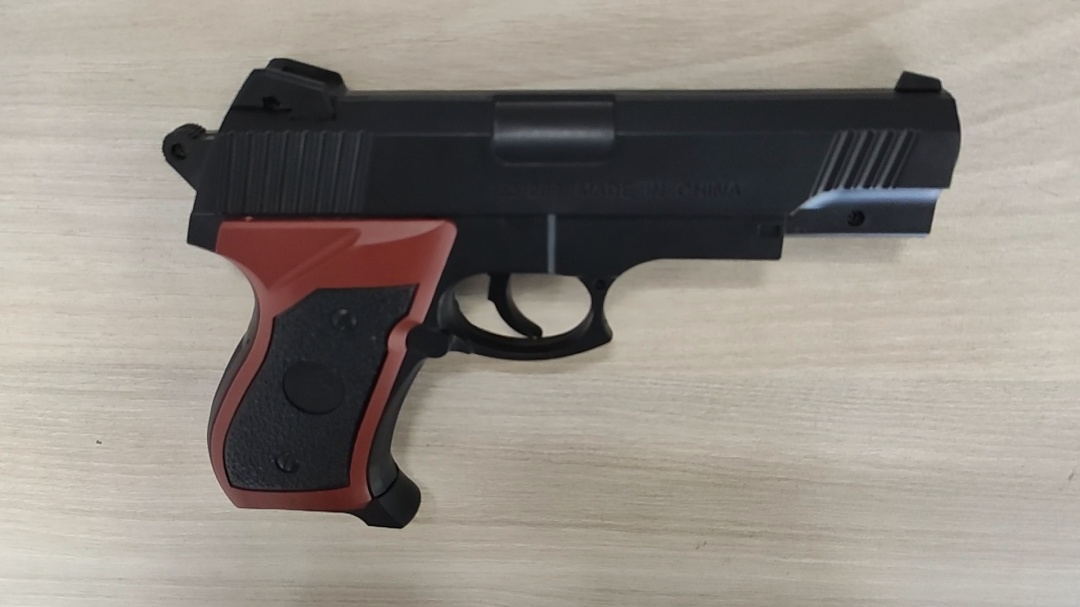gun: (609, 237, 762, 320)
